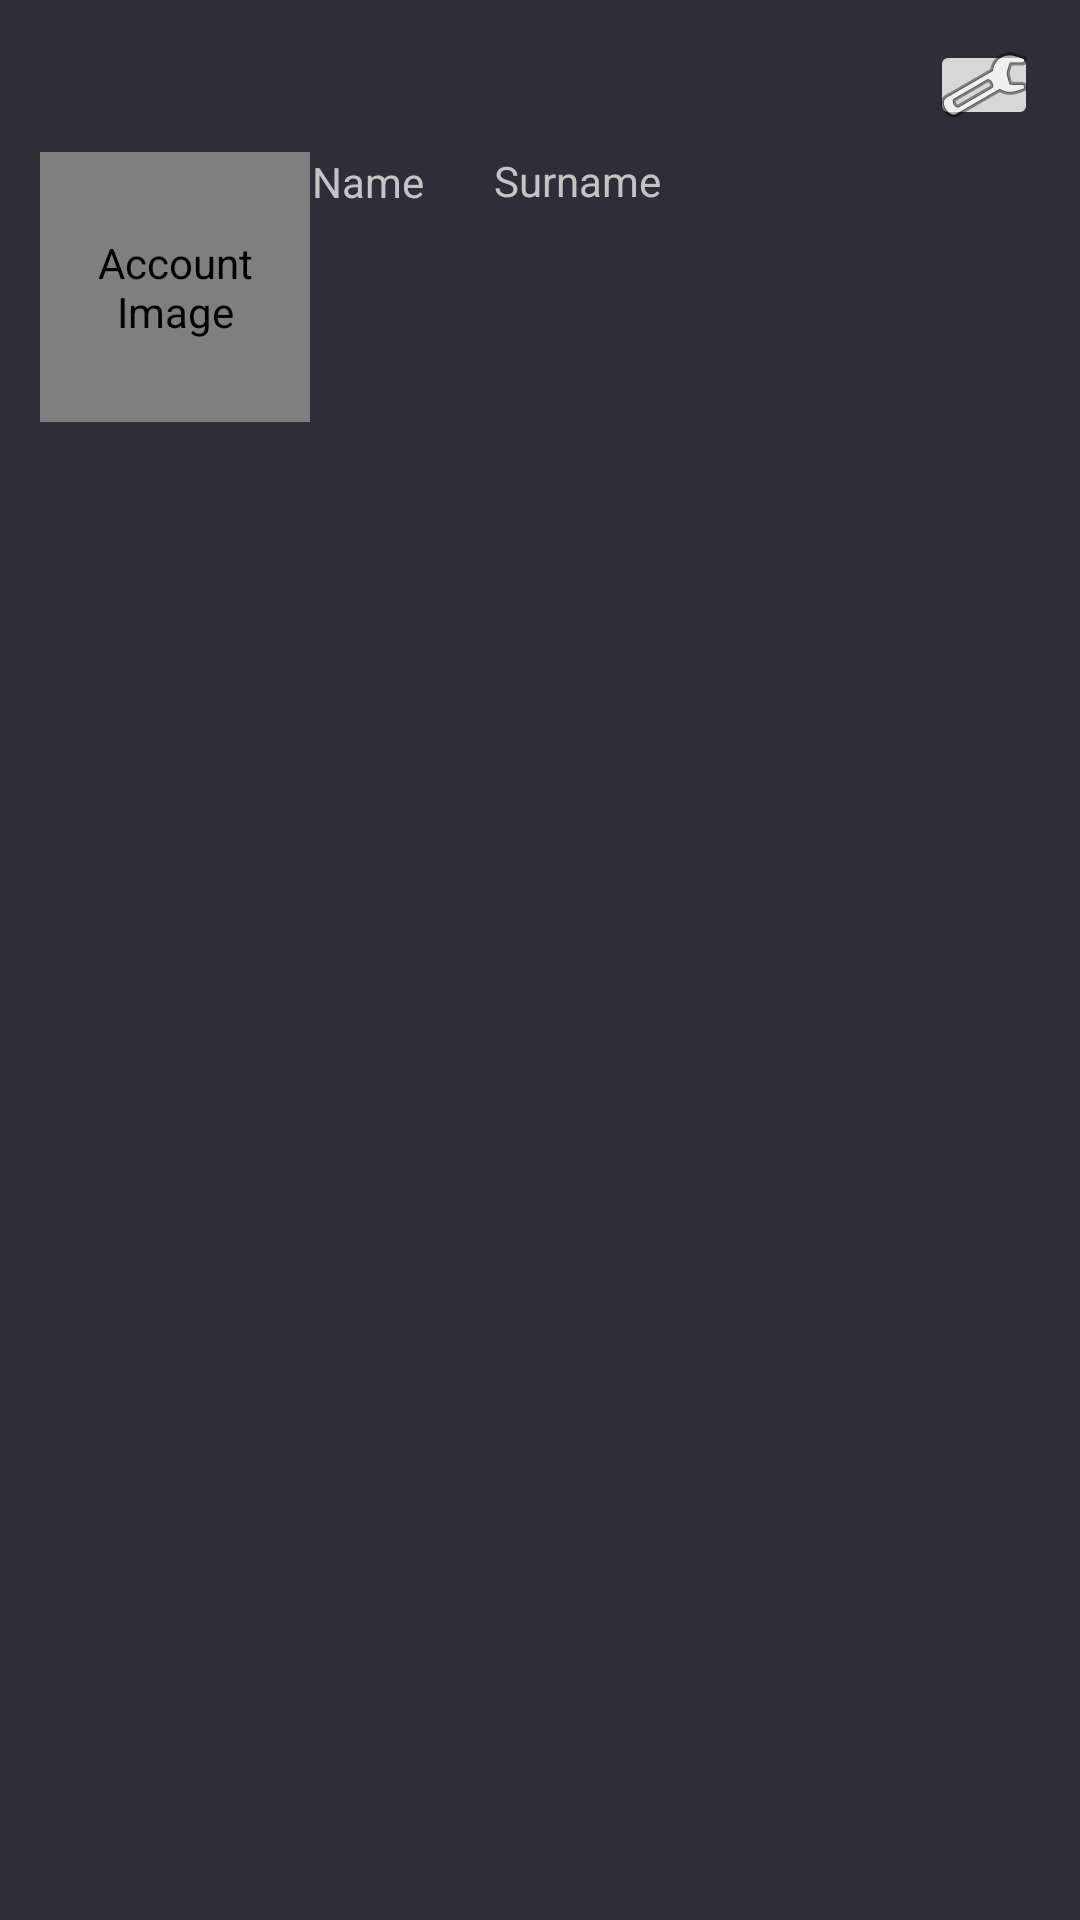

Where icons sit on this 1080 x 1920 app screen, as [x1,y1,x2,y2]:
Setting: [942,54,1026,116]
